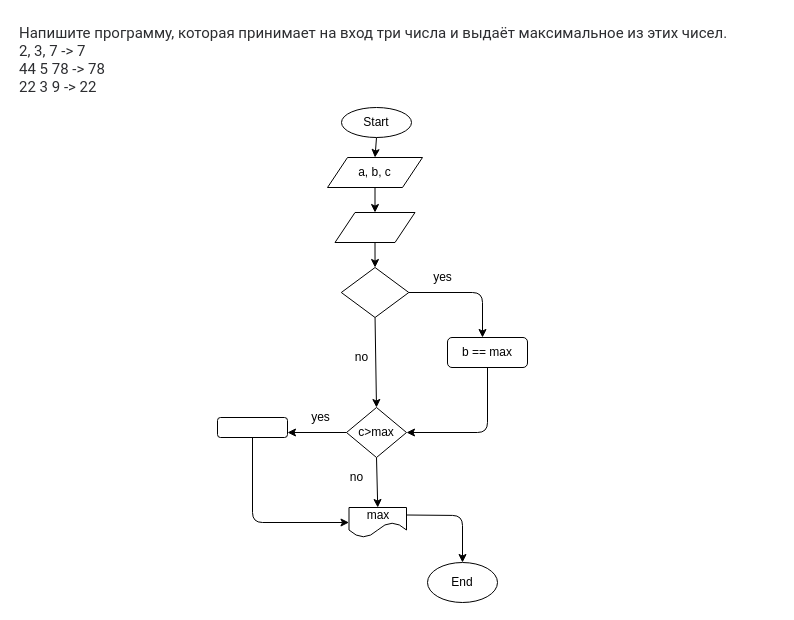
Image size: 794x620. Some labels were removed from this diagram. Each missing label, with the centre of its shape:
a == max: point 374,227
b>max: point 374,292
с == max: point 252,427
